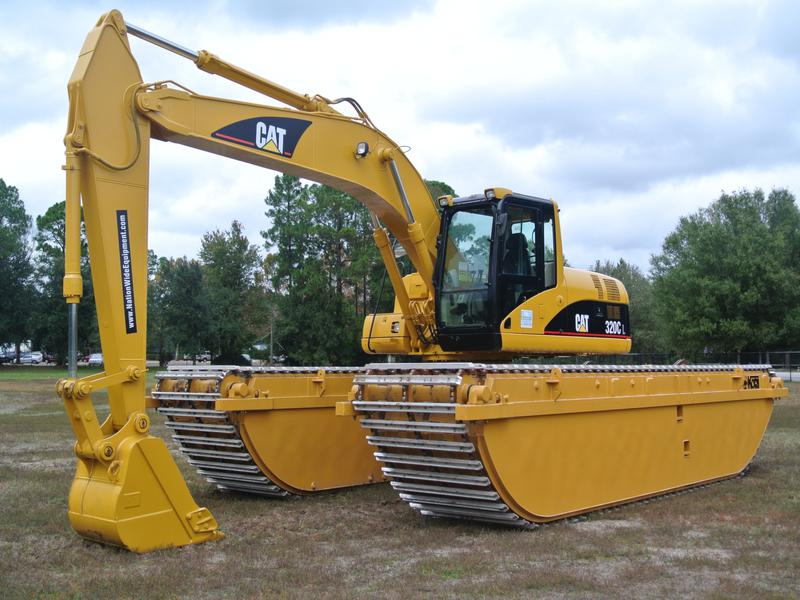shovel: (53, 5, 792, 563)
